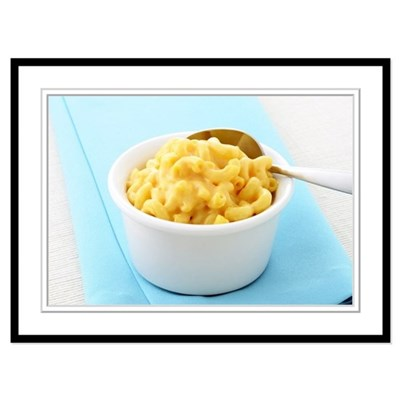macncheese: (127, 133, 279, 226)
